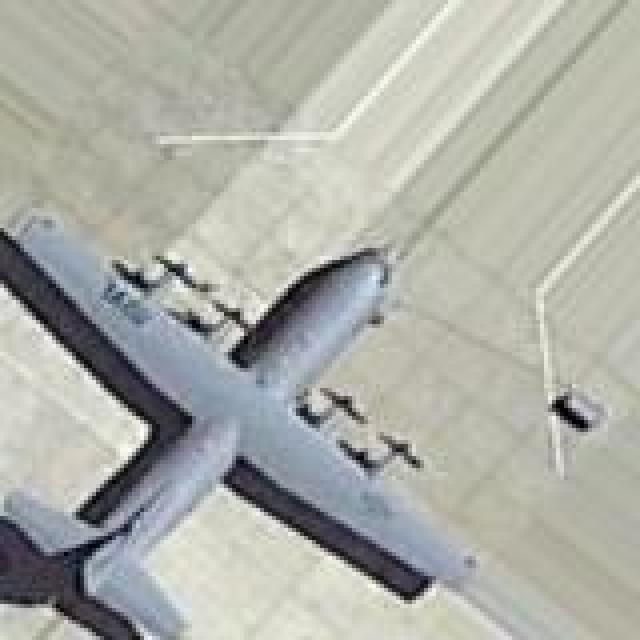C-130_TopDown: (0, 207, 485, 640)
